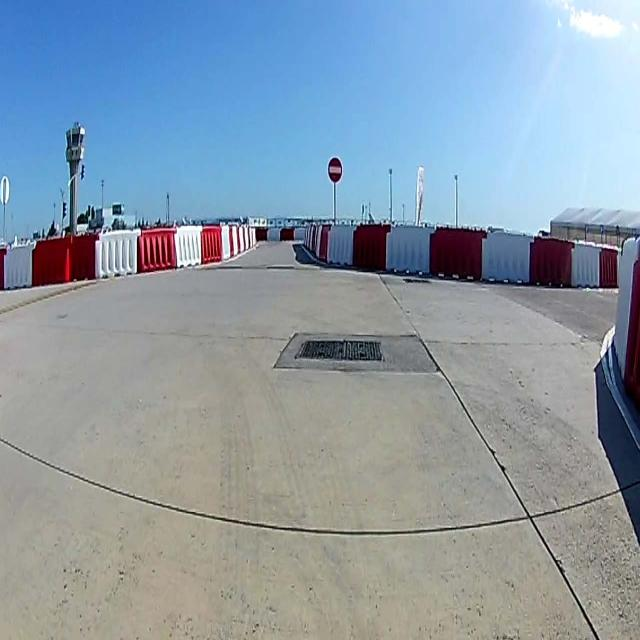girisyok: (327, 157, 343, 183)
